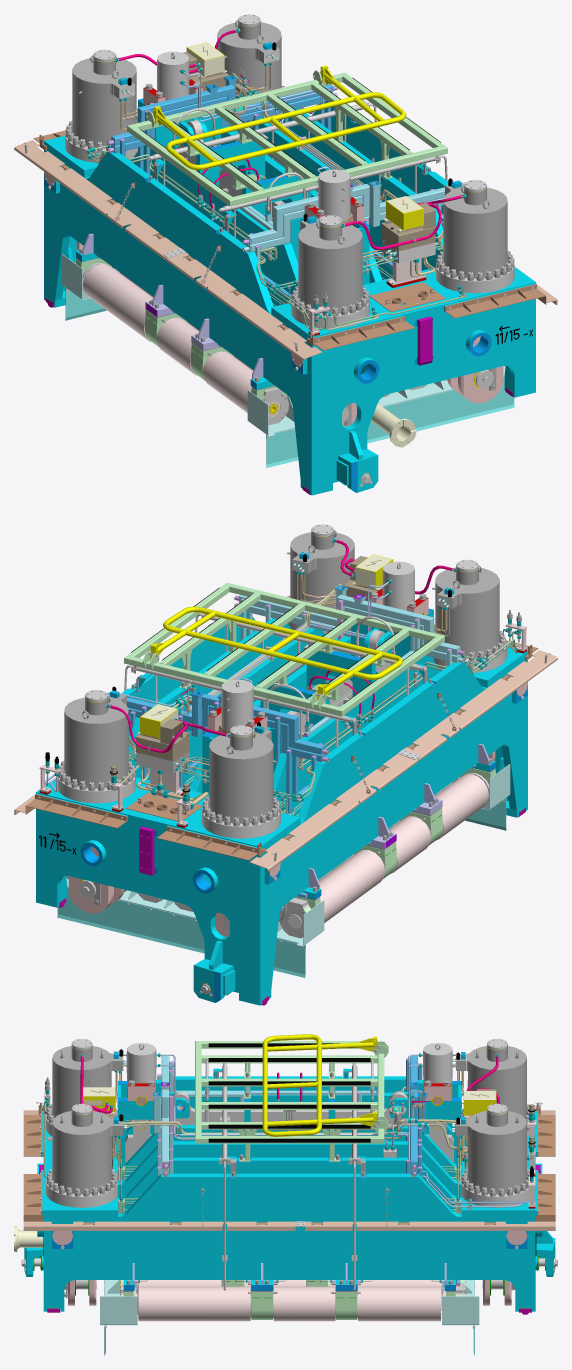
Rendered from SEGMENT_11_15_LOOSE_SIDE_FRAME.glb.
3 renders of one model, top to bottom at view 1: azimuth 30°, elevation 25°; view 2: azimuth 150°, elevation 25°; view 3: azimuth 270°, elevation 25°, orthographic. The views are drawn at different scales.
Parts seen in each view (by area): view 1: Model; view 2: Model; view 3: Model.
Boxes of the visible parts, x1=… form: Model: x1=14, y1=14, x2=557, y2=495; Model: x1=14, y1=524, x2=557, y2=1005; Model: x1=14, y1=1034, x2=557, y2=1355.
Size of what is drawn, in the model's own units: 2.54 by 2.54 by 5.03.
